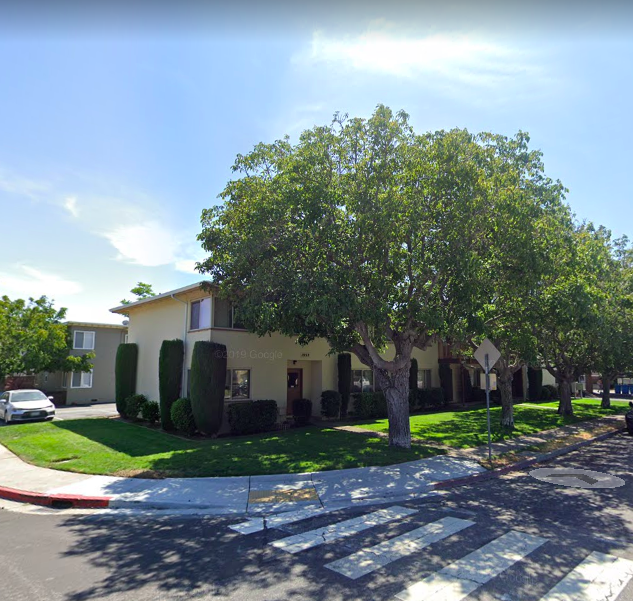tree: (195, 101, 577, 451)
